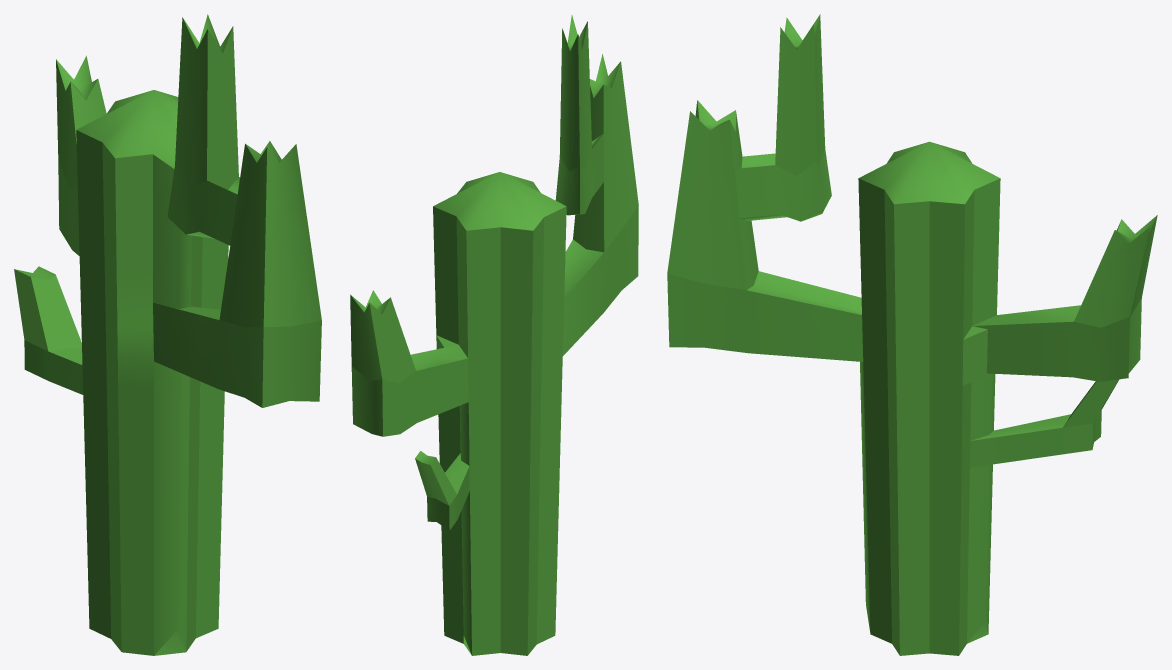
The model's file is cactus.fbx.
The picture shows the model from 3 angles, left to right: view 1: azimuth 30°, elevation 25°; view 2: azimuth 150°, elevation 25°; view 3: azimuth 270°, elevation 25°; orthographic projection. The views are drawn at different scales.
Visible parts, largest first — view 1: pCylinder1; view 2: pCylinder1; view 3: pCylinder1.
Boxes of the visible parts, <box> form: pCylinder1: <box>14,14,321,655</box>; pCylinder1: <box>350,15,638,655</box>; pCylinder1: <box>667,14,1157,655</box>.
Bounding box in the file's own units: 2.16 × 11.33 × 8.31.
